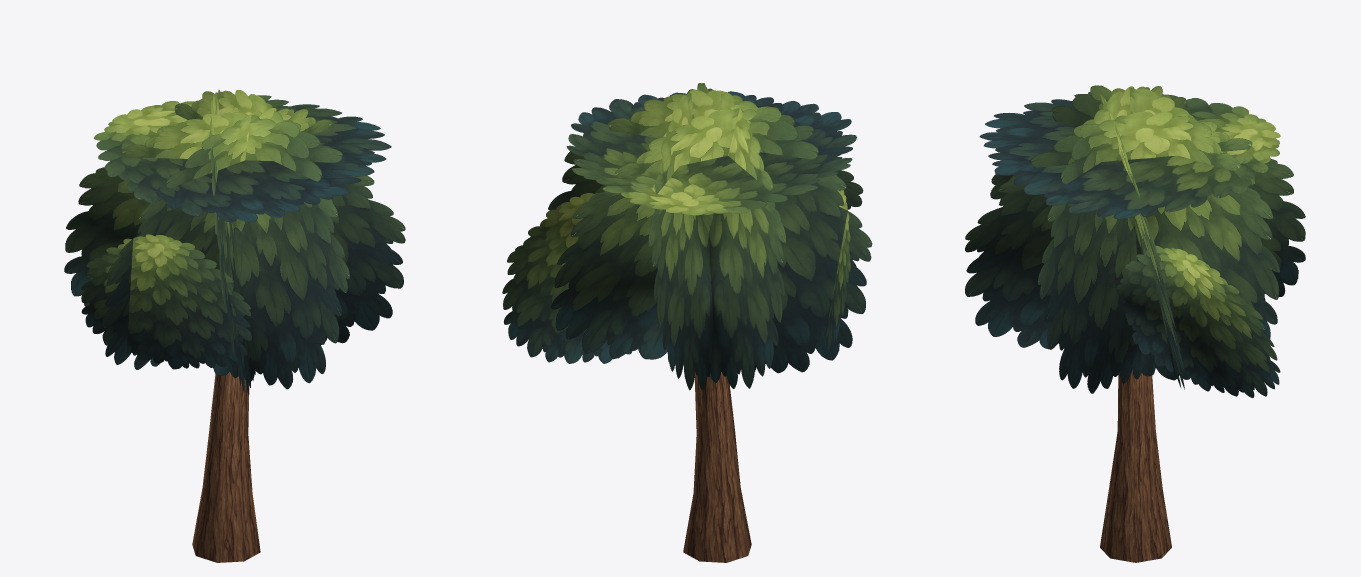
Rendered from tree_broadleaf_dark.gltf.
The picture shows the model from 3 angles, left to right: view 1: azimuth 30°, elevation 25°; view 2: azimuth 150°, elevation 25°; view 3: azimuth 270°, elevation 25°; orthographic projection. The views are drawn at different scales.
Visible parts, largest first — view 1: tree_broadleaf_dark; view 2: tree_broadleaf_dark; view 3: tree_broadleaf_dark.
Part boxes in pixels (left/top/right/bottom): tree_broadleaf_dark: left=64, top=89, right=405, bottom=562; tree_broadleaf_dark: left=502, top=83, right=872, bottom=562; tree_broadleaf_dark: left=965, top=85, right=1305, bottom=562.
Size of the model in its own units: 4.19 by 5.08 by 4.19.
Materials: 2 (2 with a texture image).
